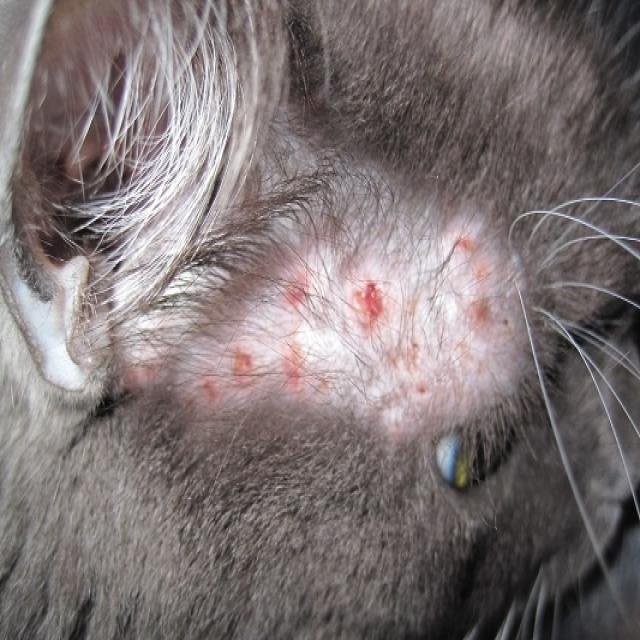cat-dermatitis: (453, 228, 497, 338), (179, 358, 228, 414), (352, 276, 391, 327), (277, 342, 310, 394), (281, 266, 310, 316), (407, 344, 432, 398), (230, 348, 265, 384)
